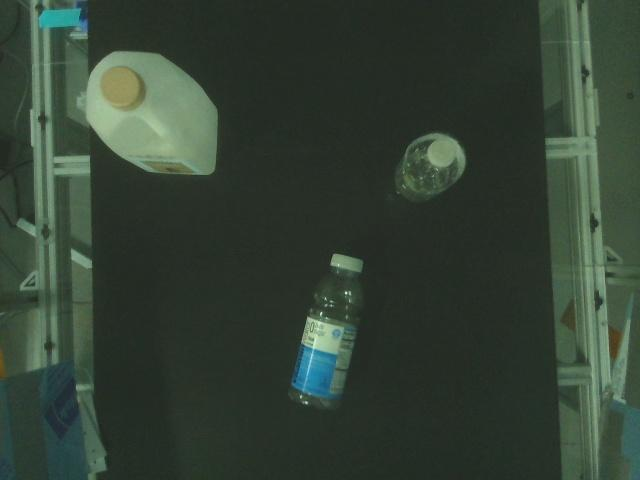plastic: (87, 51, 219, 176), (286, 253, 367, 413), (393, 133, 468, 204)
